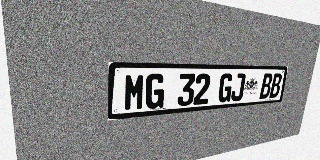2: (193, 73, 211, 105)
3: (177, 73, 196, 106)
B: (259, 73, 273, 99), (269, 73, 283, 98)
G: (145, 74, 165, 109), (217, 73, 234, 103)
J: (230, 73, 246, 102)
M: (123, 74, 146, 111)
